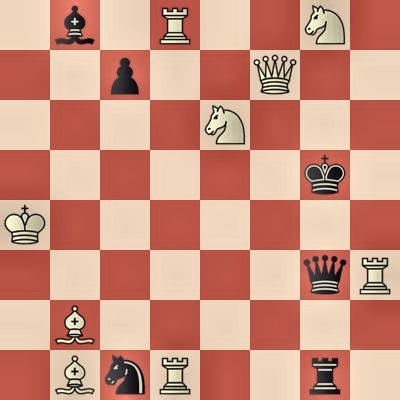black-bishop: (50, 0, 100, 50)
black-king: (300, 150, 350, 200)
black-knight: (100, 350, 150, 400)
black-pawn: (100, 50, 150, 100)
black-queen: (300, 250, 350, 300)
black-rook: (300, 350, 350, 400)
white-bishop: (50, 300, 100, 350), (50, 350, 100, 400)
white-king: (0, 200, 50, 250)
white-knight: (300, 0, 350, 50), (200, 100, 250, 150)
white-queen: (250, 50, 300, 100)
white-rook: (150, 0, 200, 50), (350, 250, 400, 300), (150, 350, 200, 400)
